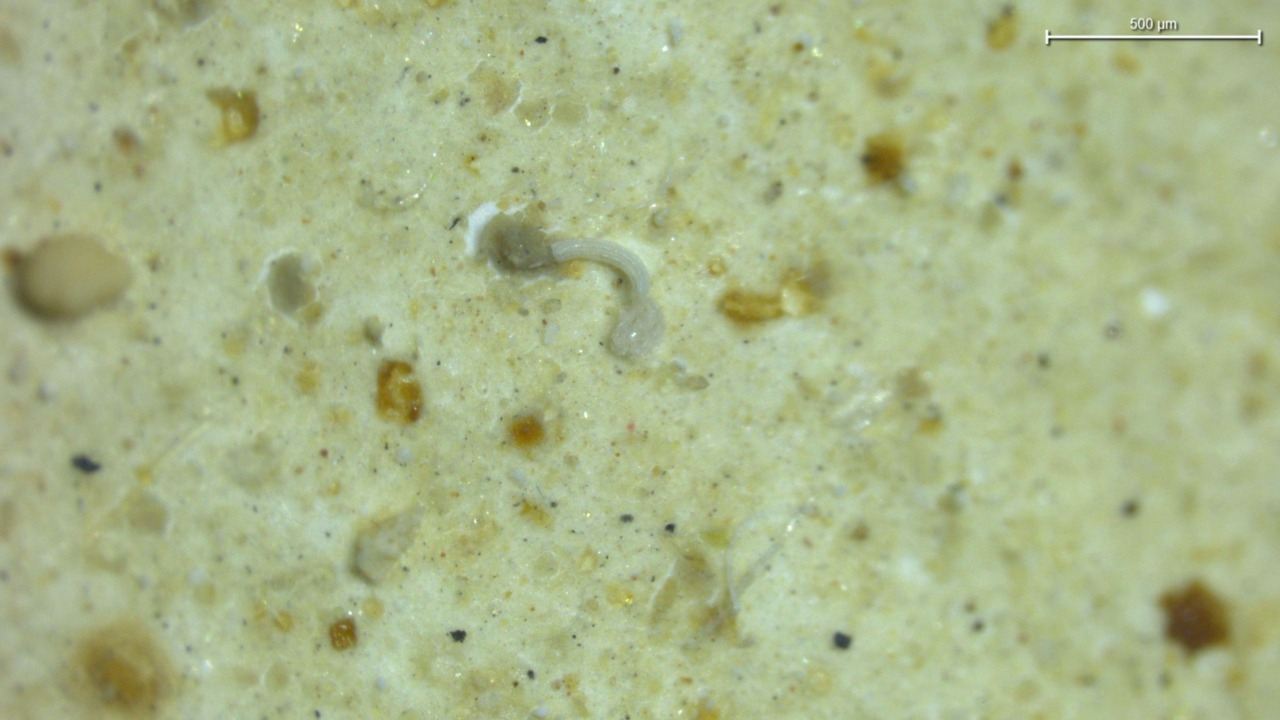microplastic_fragment: (550, 239, 664, 356), (353, 507, 424, 583)
